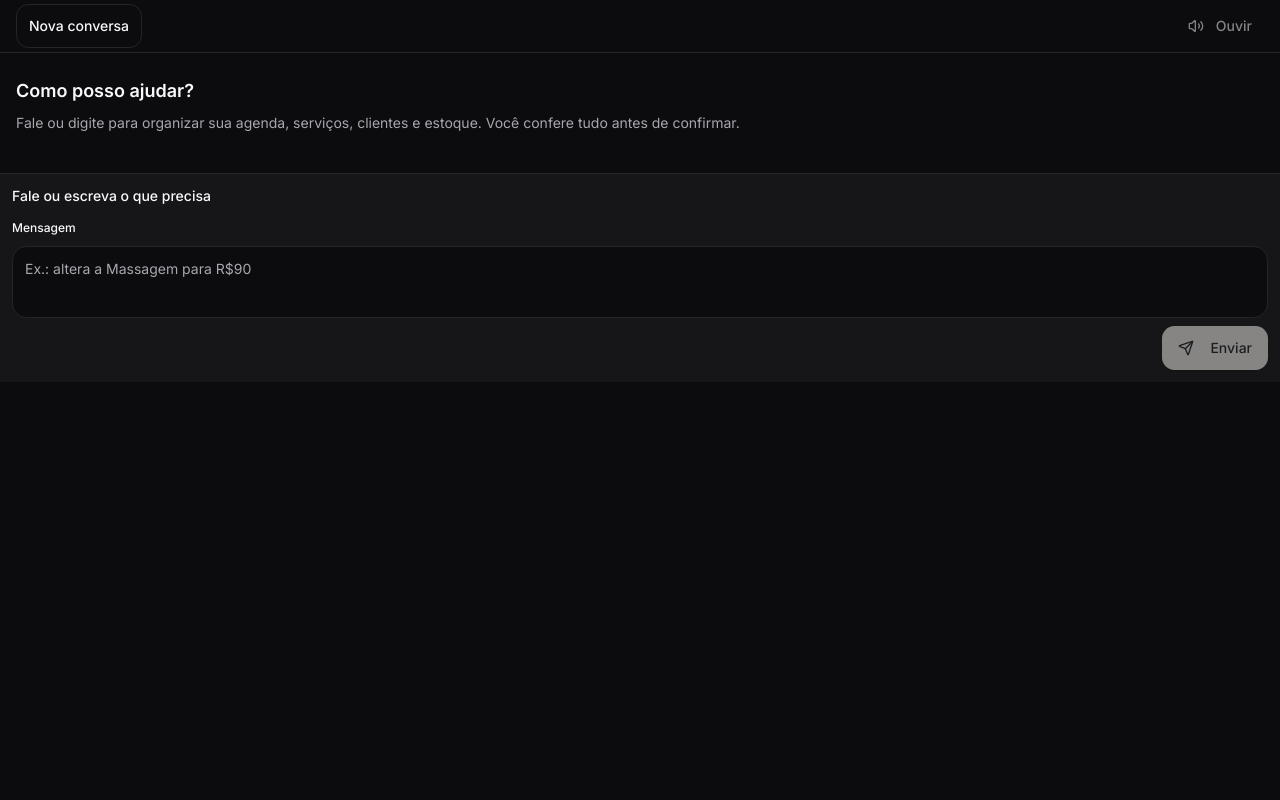
Test: the review box is driven by the status (copy on) › copy off (no marker): the historical heading, even for AVAILABLE
Click the button "Nova conversa": x=79, y=26 [16,4,142,48]
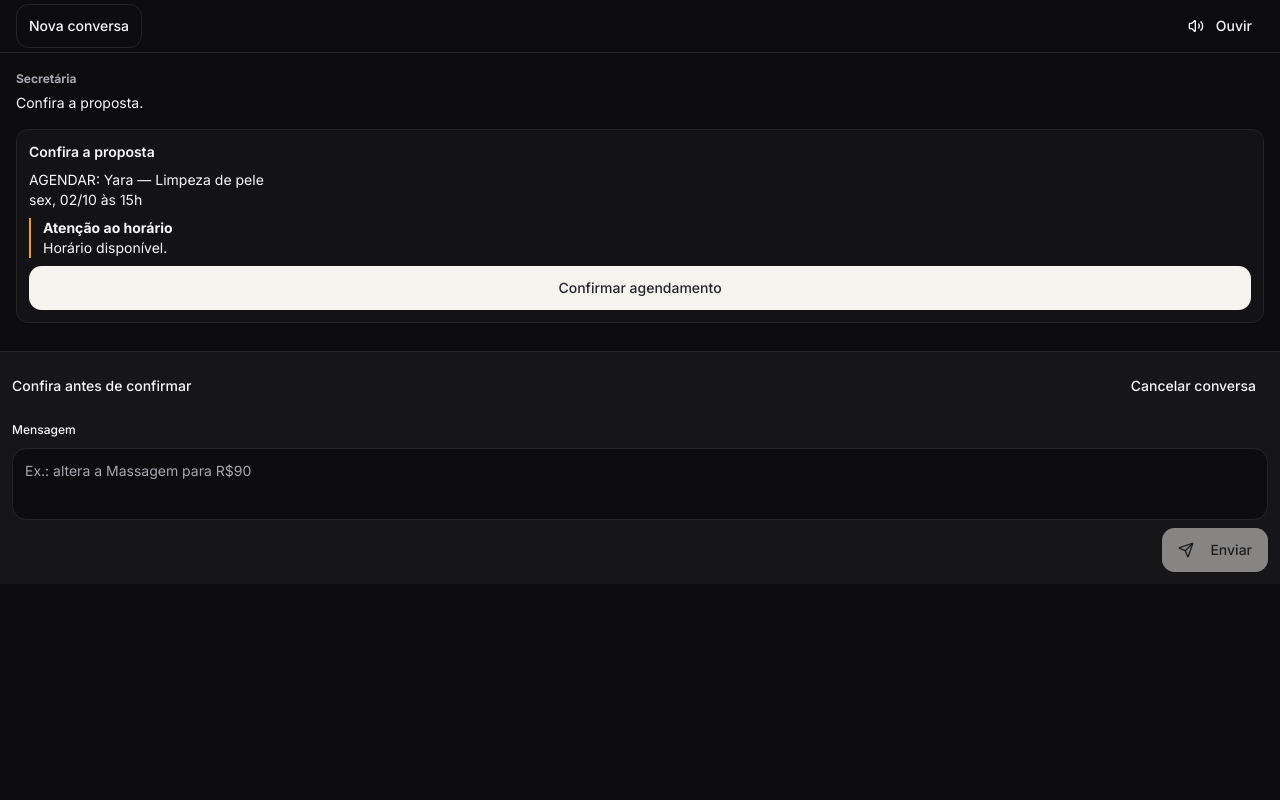
Now the text "Atenção ao horário" is shown, box [43,219,173,236]
Now the text "Horário disponível." is shown, box [43,239,167,256]
